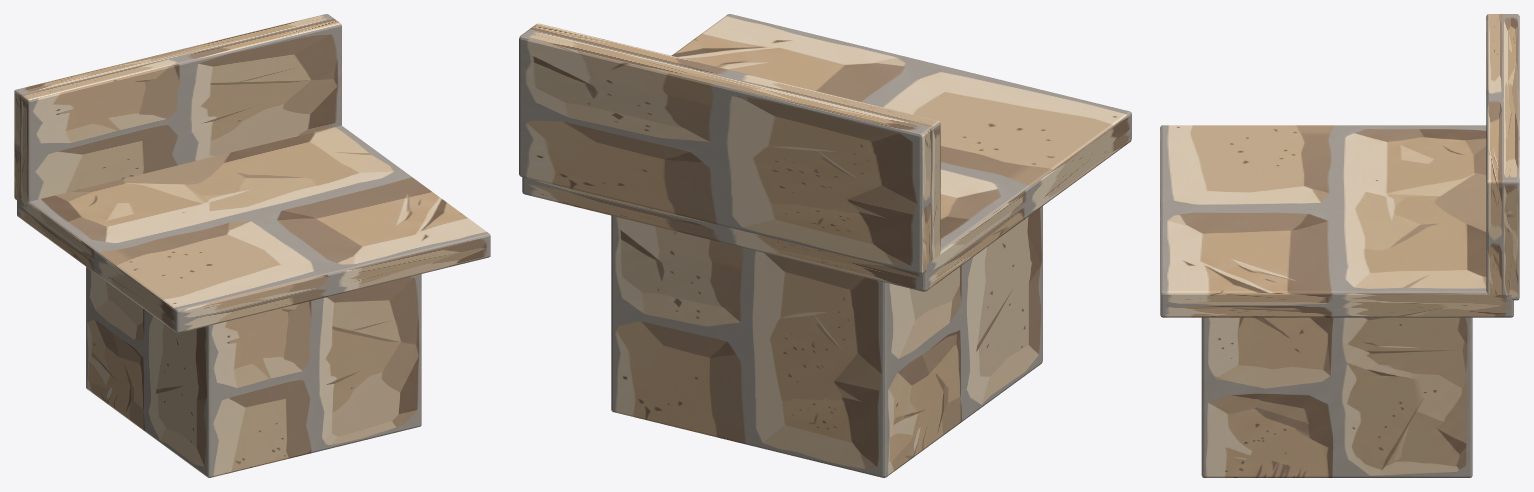
Rendered from archer_platform_low_2m_LOD1.glb.
The picture shows the model from 3 angles, left to right: view 1: azimuth 30°, elevation 25°; view 2: azimuth 150°, elevation 25°; view 3: azimuth 270°, elevation 25°; orthographic projection. The views are drawn at different scales.
Parts seen in each view (by area): view 1: LOD_Deck, LOD_Base, LOD_Screen; view 2: LOD_Base, LOD_Screen, LOD_Deck; view 3: LOD_Deck, LOD_Base, LOD_Screen.
Boxes of the visible parts, box(x1,y1,x2,y2) form: LOD_Deck: box(17, 125, 490, 333); LOD_Base: box(86, 267, 421, 477); LOD_Screen: box(14, 14, 341, 206); LOD_Base: box(611, 206, 1042, 477); LOD_Screen: box(519, 23, 940, 273); LOD_Deck: box(522, 14, 1131, 291); LOD_Deck: box(1160, 125, 1513, 317); LOD_Base: box(1201, 317, 1472, 477); LOD_Screen: box(1486, 14, 1519, 300).
Bounding box in the file's own units: 3.6 × 3.24 × 3.25.
Materials: 1 (1 with a texture image).
